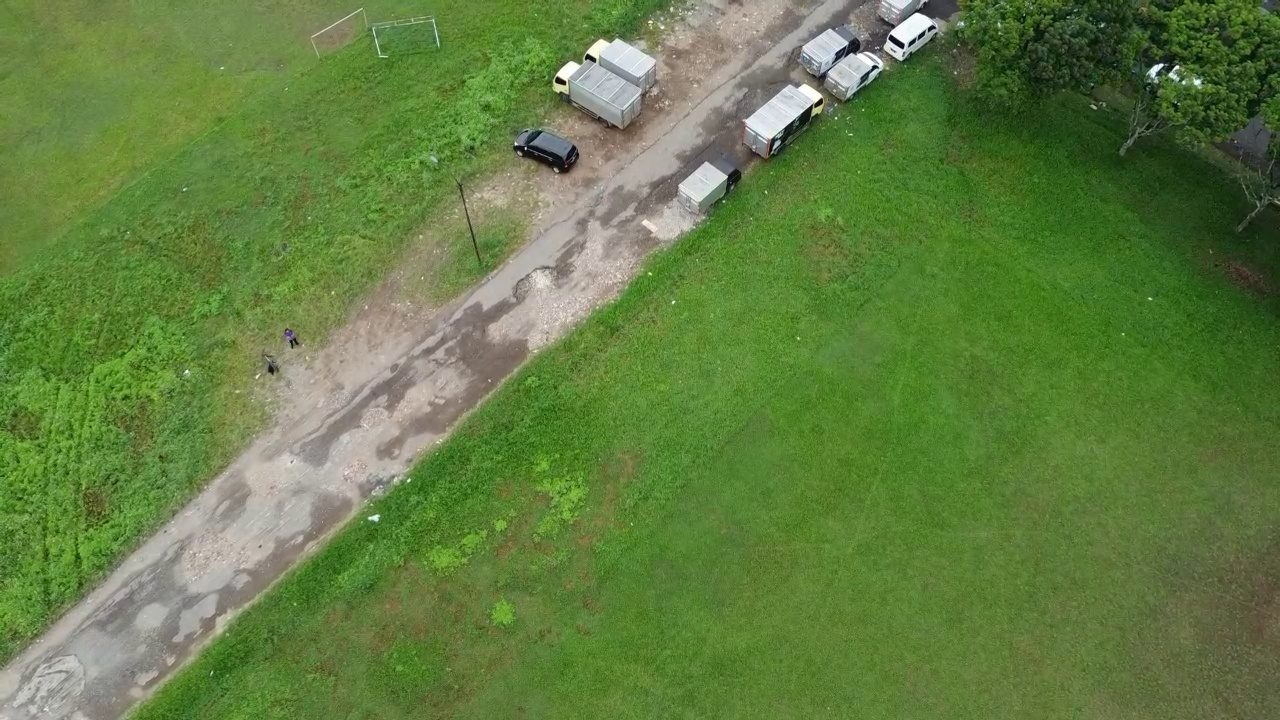mobil: (511, 125, 583, 172), (881, 14, 946, 62)
